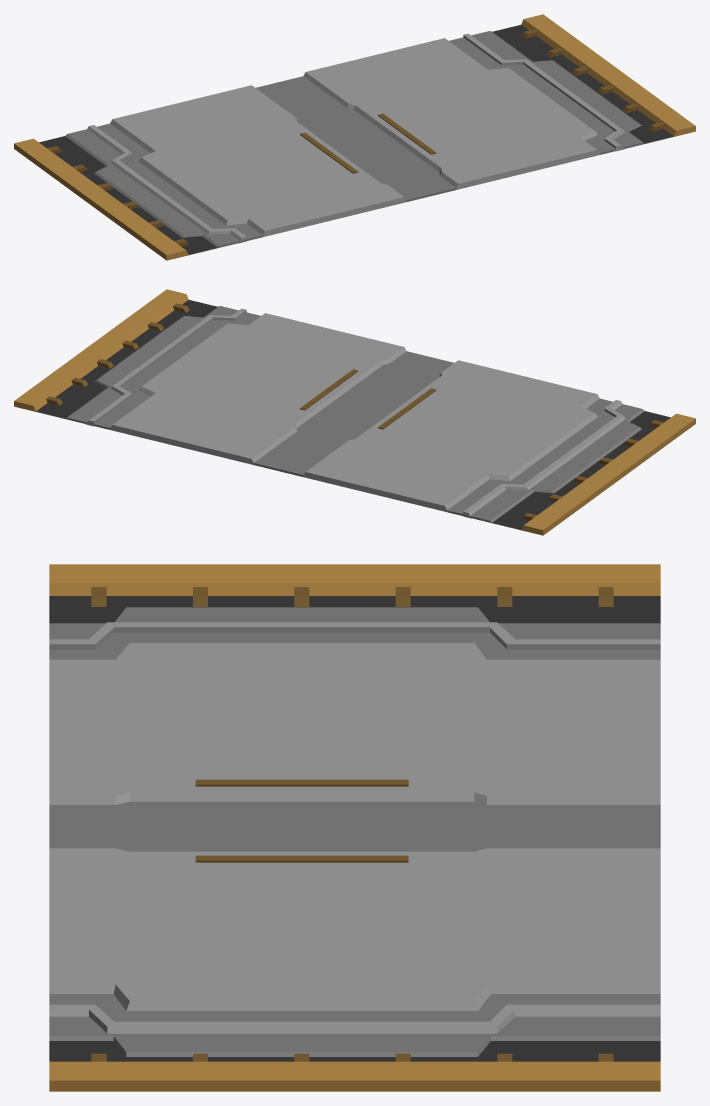
3 views of the same model, one above another, from view 1: azimuth 30°, elevation 25°; view 2: azimuth 150°, elevation 25°; view 3: azimuth 270°, elevation 25° (orthographic). The views are drawn at different scales.
Visible parts, largest first — view 1: FloorTile_Double; view 2: FloorTile_Double; view 3: FloorTile_Double.
Part boxes in pixels (bbox=[...]): FloorTile_Double: bbox=[14, 14, 695, 260]; FloorTile_Double: bbox=[14, 289, 695, 535]; FloorTile_Double: bbox=[49, 564, 660, 1091].
Bounding box in the file's own units: 4 × 0.0685 × 2.
